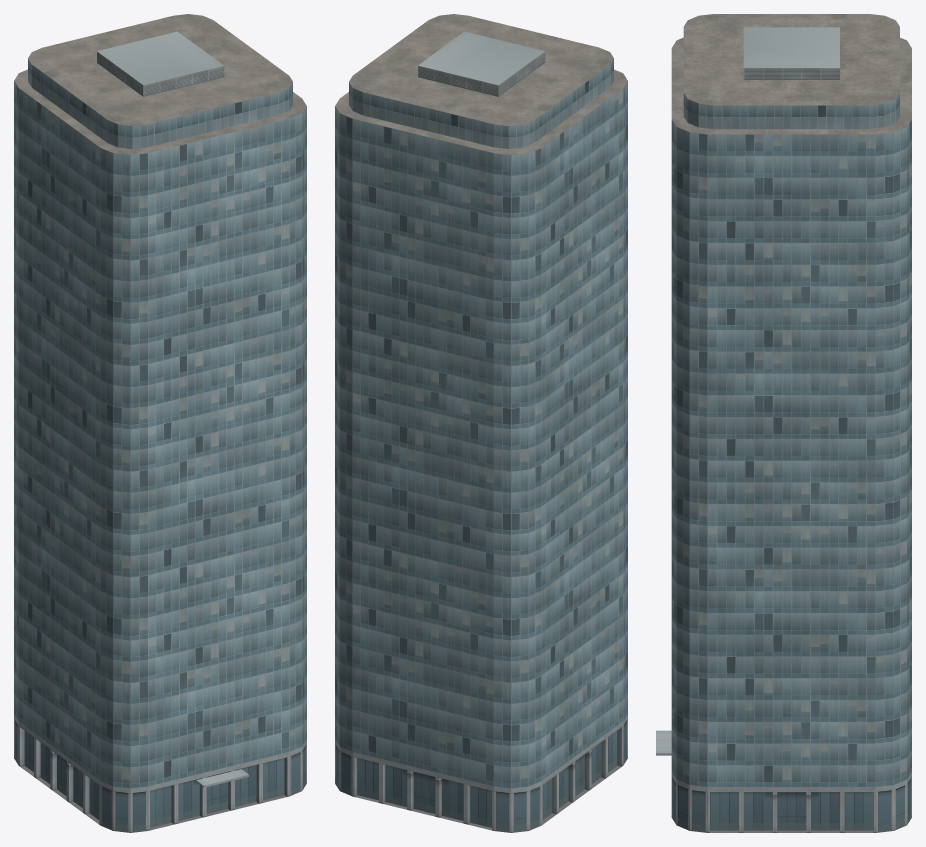
File: sf_glasstower_b.glb
3 views of the same model, side by side, from view 1: azimuth 30°, elevation 25°; view 2: azimuth 150°, elevation 25°; view 3: azimuth 270°, elevation 25° (orthographic). The views are drawn at different scales.
Visible parts, largest first — view 1: sf_glasstower_b; view 2: sf_glasstower_b; view 3: sf_glasstower_b.
Part boxes in pixels (x1=…): sf_glasstower_b: x1=14, y1=14, x2=306, y2=832; sf_glasstower_b: x1=335, y1=14, x2=627, y2=832; sf_glasstower_b: x1=656, y1=14, x2=911, y2=832.
Bounding box in the file's own units: 40 × 135 × 42.6.
Materials: 1 (1 with a texture image).
